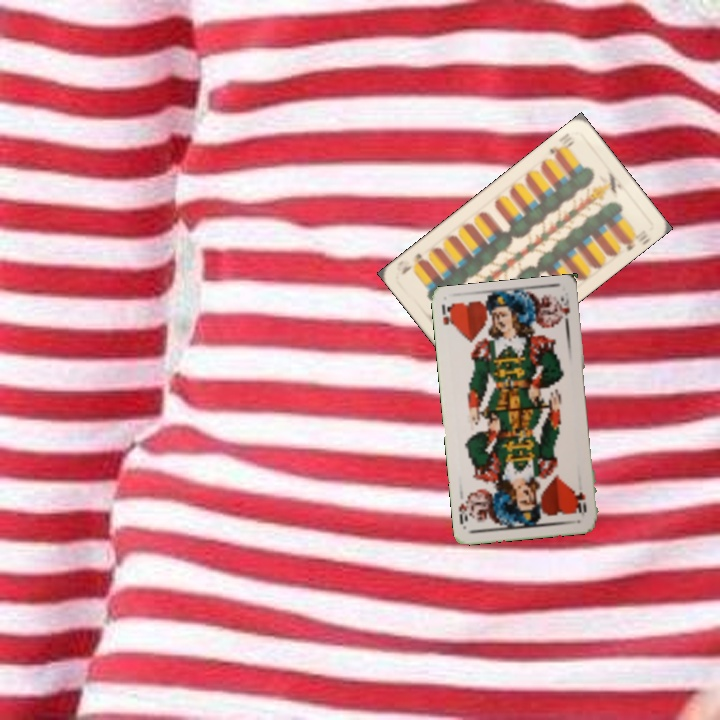E10: (545, 129, 577, 161)
HO: (437, 300, 456, 330), (574, 487, 589, 518)
